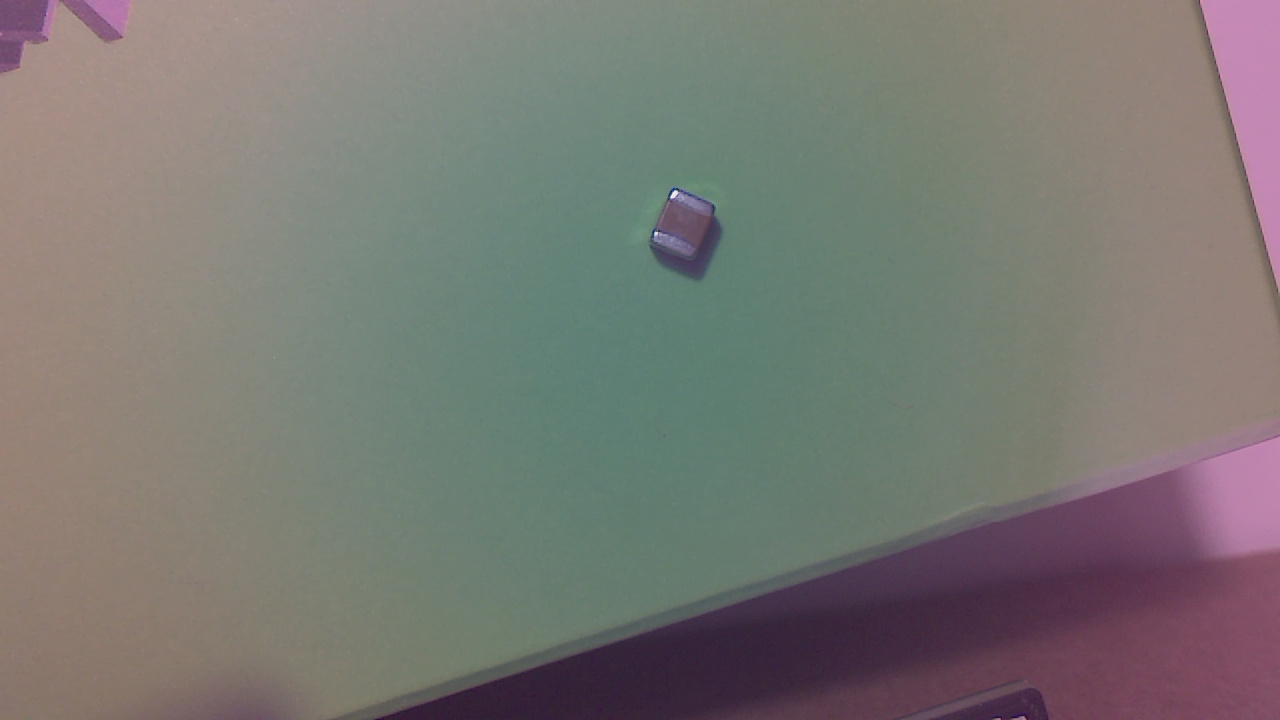Condensator: (654, 190, 722, 274)
